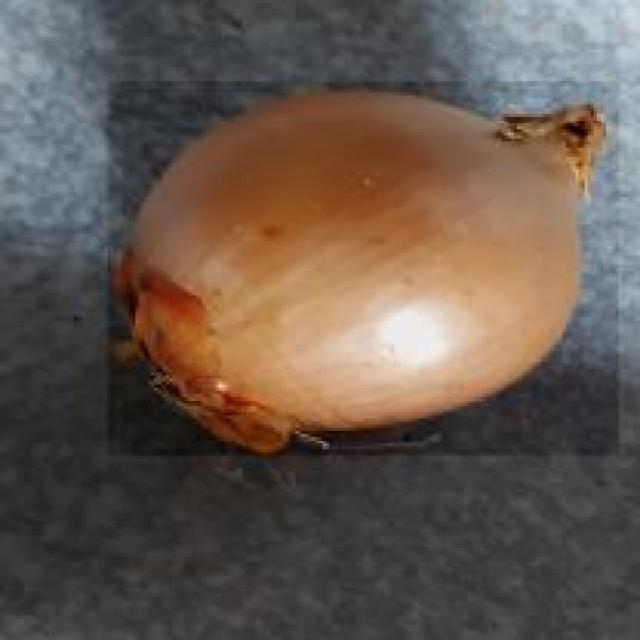onion: (104, 80, 618, 458)
